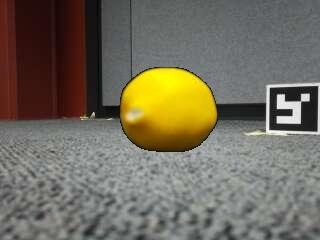lemon: (121, 66, 217, 150)
